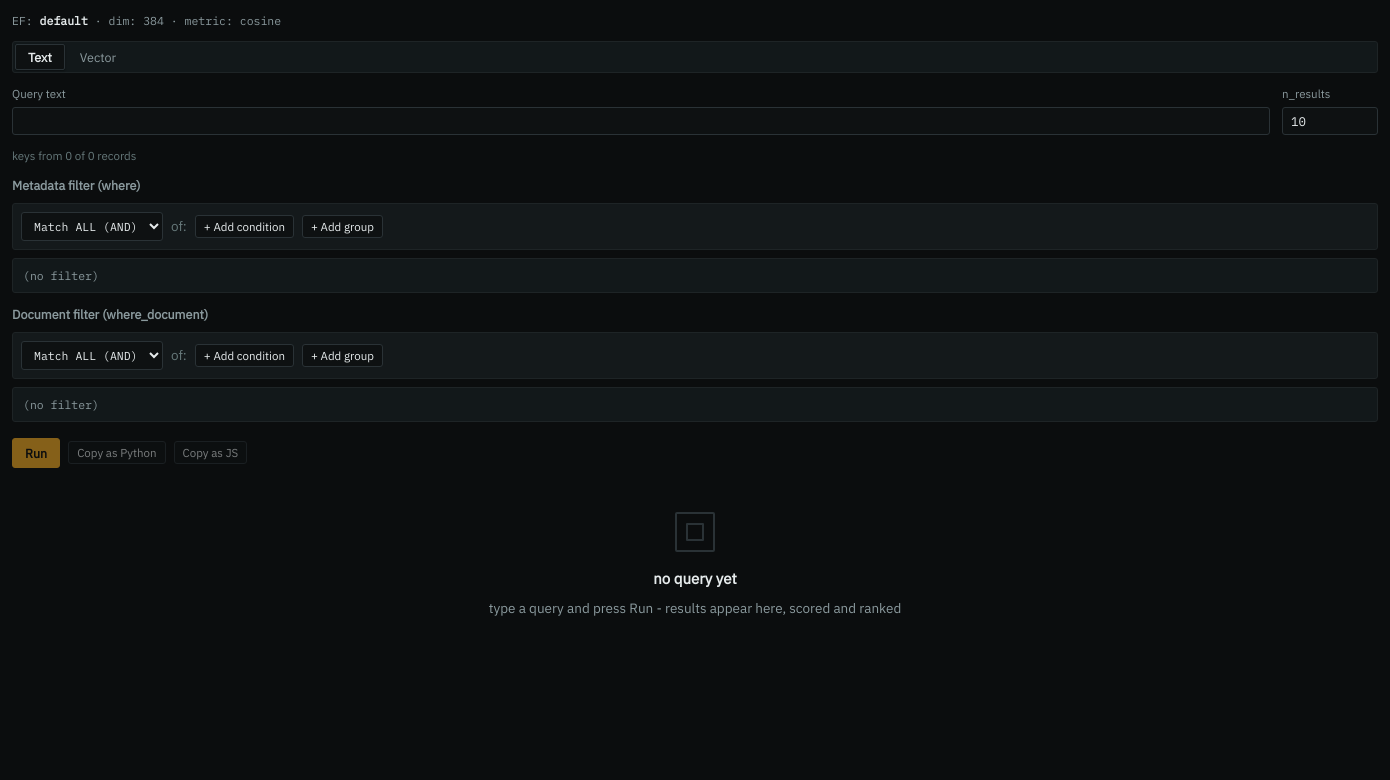
runs a query and shows scored ranked hits
In the field labelled "Query text": [641, 120] box [12, 106, 1270, 134], type "alpha"
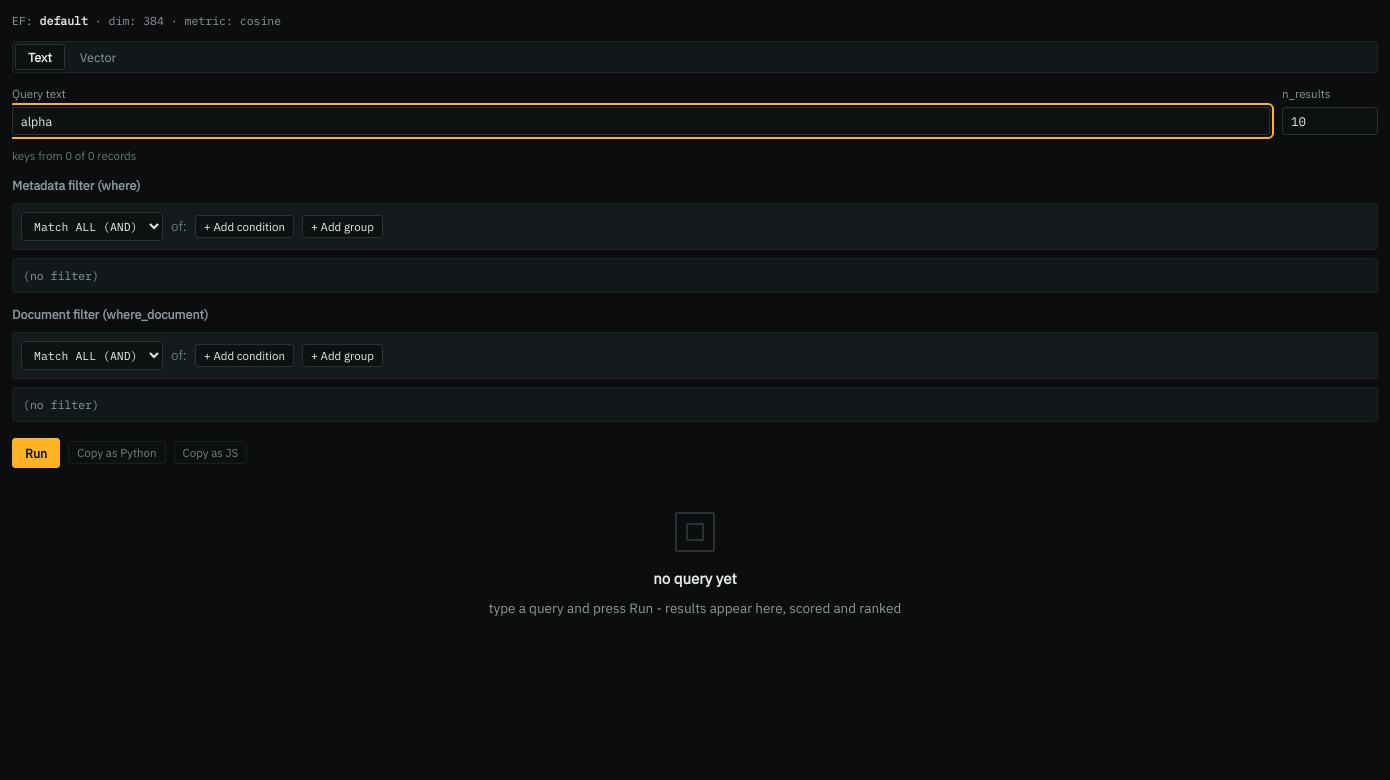
Click the button "Run": [36, 453] box [12, 438, 60, 468]
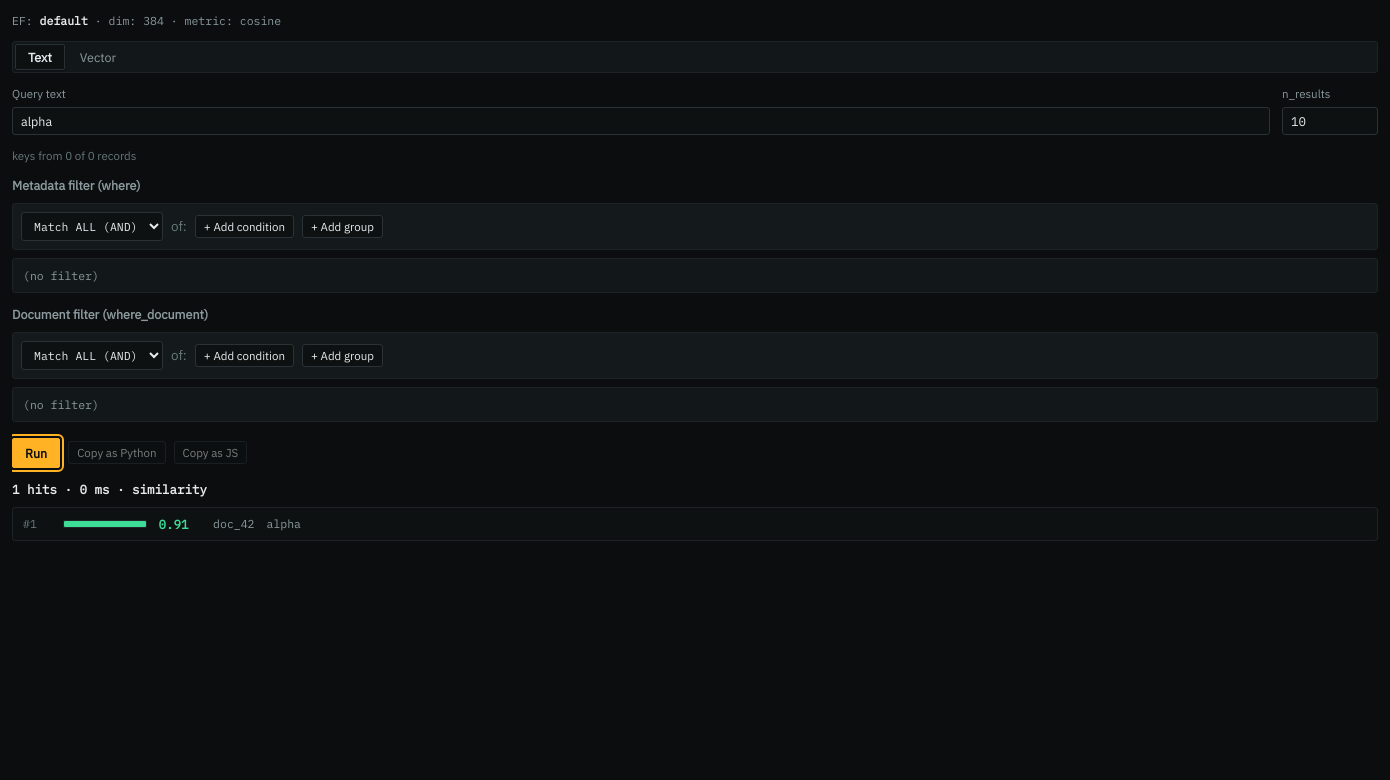
Result: the text "doc_42" is shown at [213, 516, 254, 531]
Result: the text "0.91" is shown at [159, 516, 189, 532]
